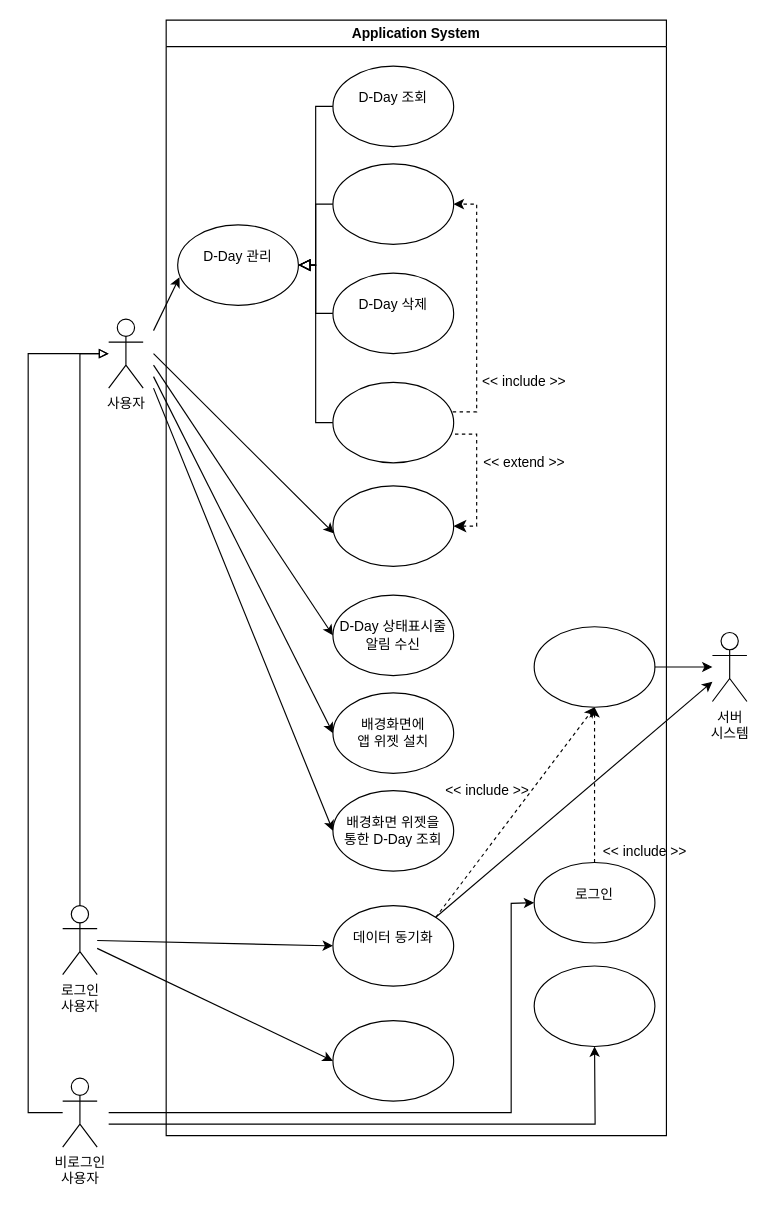
Image size: 768x1209. Some labels were removed from this diagram. Each missing label, with the box of its shape:
D-Day 추가: (332, 163, 454, 244)
로그아웃: (332, 1019, 454, 1101)
사용자 인증: (533, 626, 655, 707)
캘린더 조회: (332, 485, 454, 566)
캘린더에서 D-Day 추가: (332, 381, 454, 463)
회원가입: (533, 965, 655, 1046)
